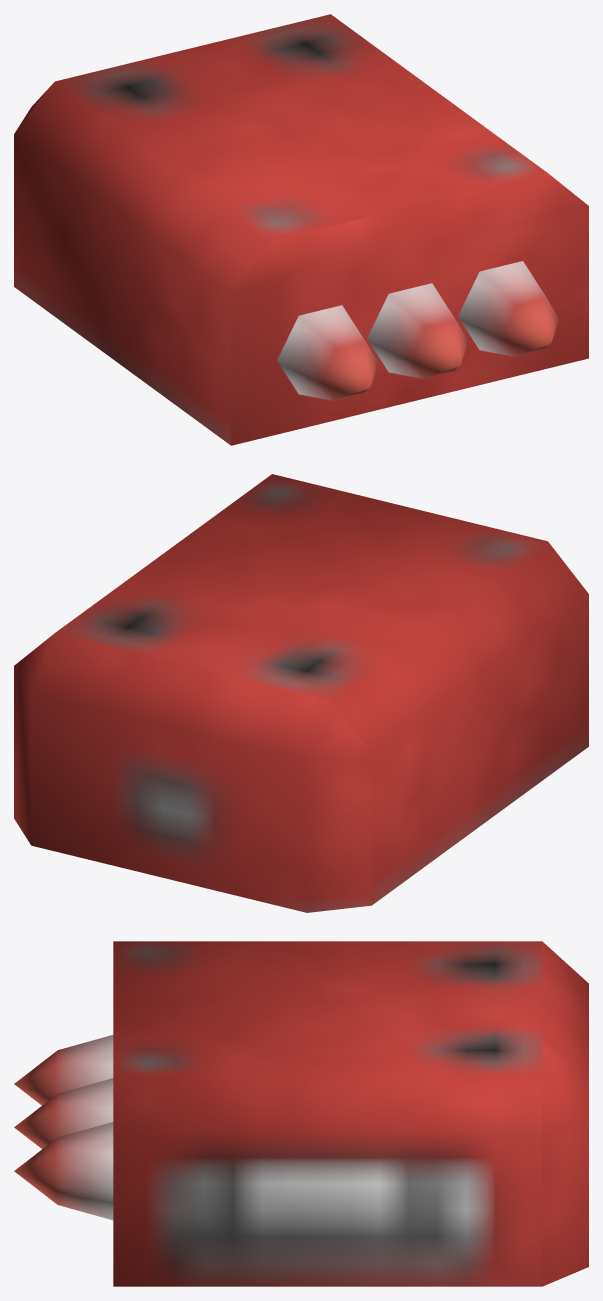
The model's file is RocketLauncher.FBX.
3 views of the same model, one above another, from view 1: azimuth 30°, elevation 25°; view 2: azimuth 150°, elevation 25°; view 3: azimuth 270°, elevation 25° (orthographic).
Visible parts, largest first — view 1: RocketLaunch; view 2: RocketLaunch; view 3: RocketLaunch.
Boxes of the visible parts, x1,y1,x2,y2 form: RocketLaunch: (14,14,588,445); RocketLaunch: (14,474,588,912); RocketLaunch: (14,941,588,1286).
Bounding box in the file's own units: 14.76 × 7.7 × 20.81.
1 material, 1 textured.
